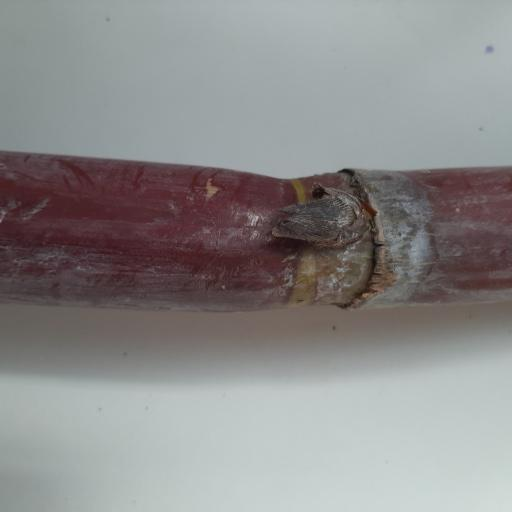Bud: (274, 189, 364, 244)
